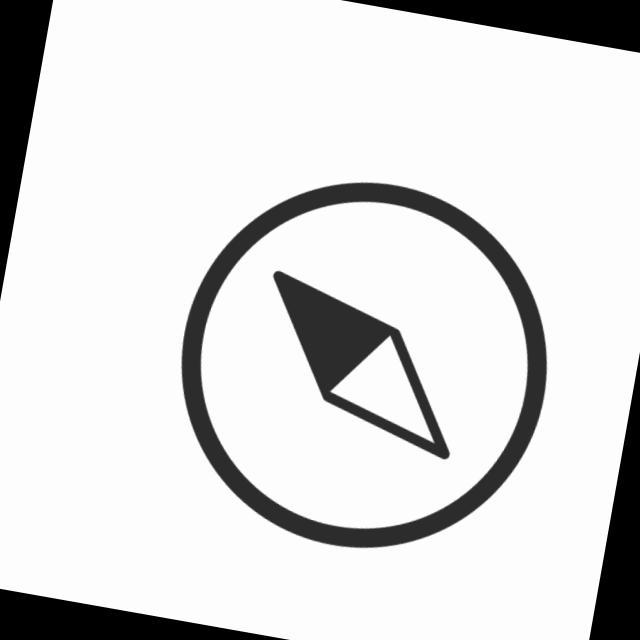compass: (147, 144, 583, 580)
